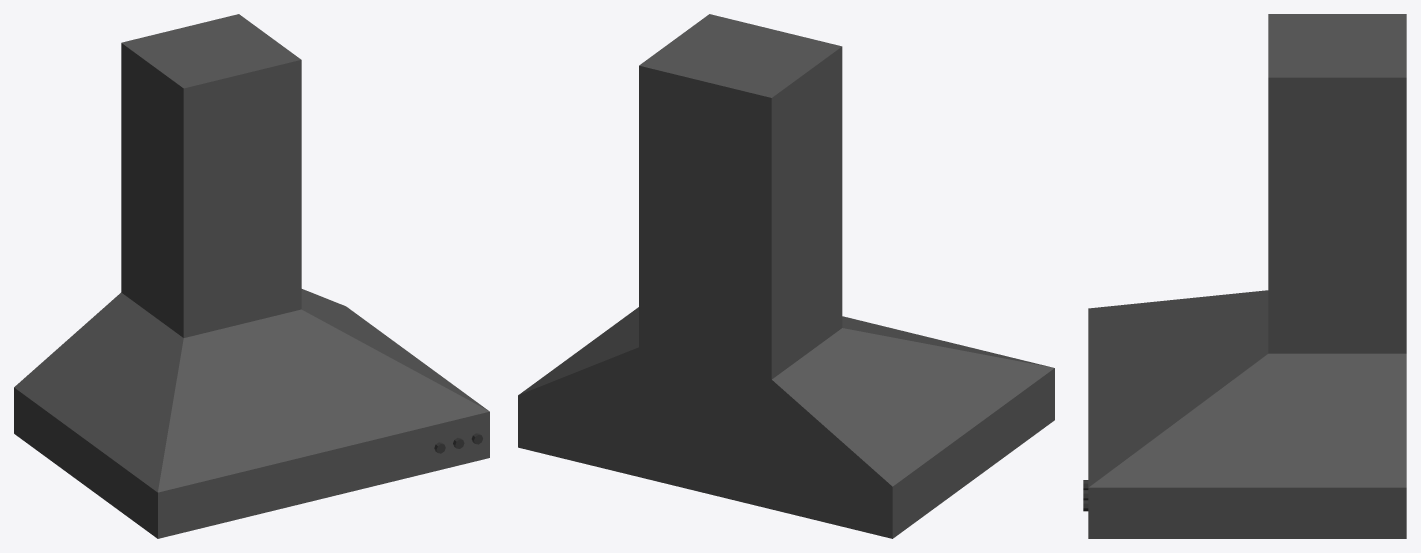
Rendered from Hood3_C1_01.fbx.
The picture shows the model from 3 angles, left to right: view 1: azimuth 30°, elevation 25°; view 2: azimuth 150°, elevation 25°; view 3: azimuth 270°, elevation 25°; orthographic projection. The views are drawn at different scales.
Visible parts, largest first — view 1: Hood3_C1_01; view 2: Hood3_C1_01; view 3: Hood3_C1_01.
Part boxes in pixels (x1,y1,x2,y2): Hood3_C1_01: (14, 14, 489, 538); Hood3_C1_01: (518, 14, 1054, 538); Hood3_C1_01: (1083, 14, 1406, 538).
Size of the model in its own units: 60 by 63.1 by 45.72.
